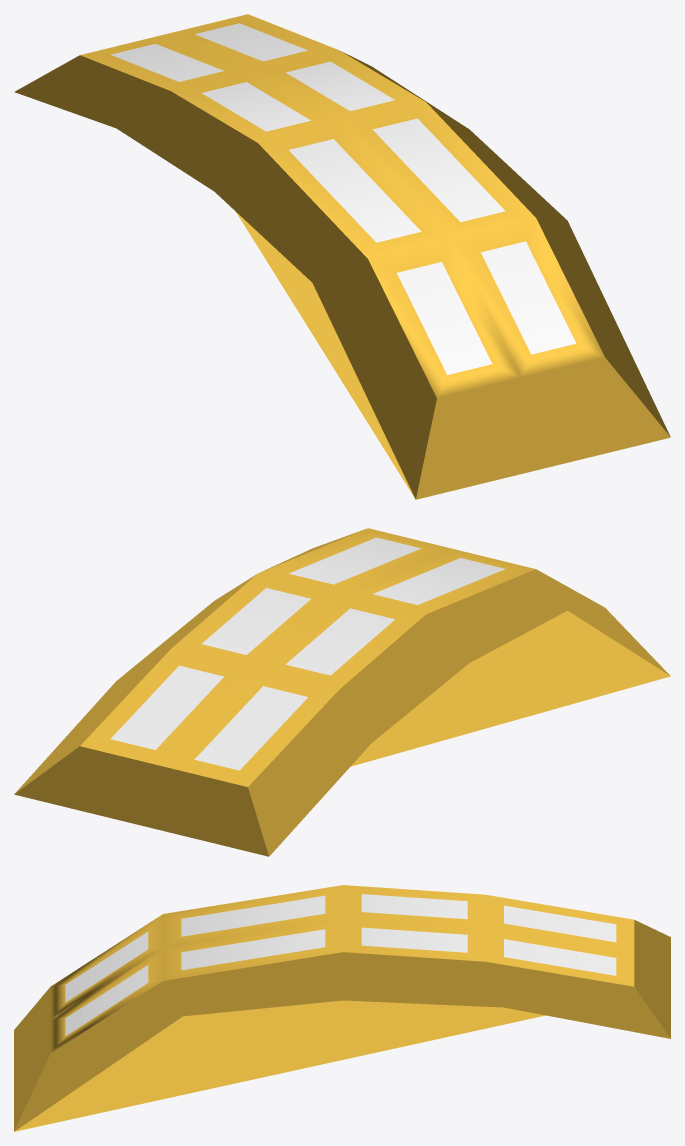
File: solarBadNew.fbx
3 views of the same model, one above another, from view 1: azimuth 30°, elevation 25°; view 2: azimuth 150°, elevation 25°; view 3: azimuth 270°, elevation 25° (orthographic). The views are drawn at different scales.
Parts seen in each view (by area): view 1: solar; view 2: solar; view 3: solar.
Boxes of the visible parts, x1,y1,x2,y2 form: solar: [14, 14, 670, 499]; solar: [14, 528, 670, 856]; solar: [14, 885, 670, 1131].
Bounding box in the file's own units: 59.19 × 44.05 × 161.
